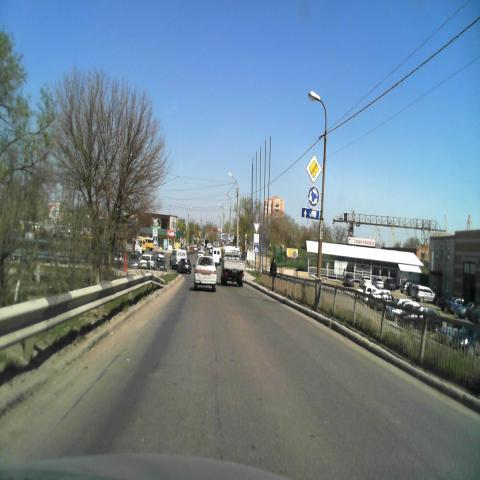2_2: (306, 154, 322, 184)
2_4: (253, 222, 260, 234), (153, 219, 158, 227)
4_3: (308, 186, 319, 207)
5_19_1: (253, 244, 259, 252), (153, 238, 158, 246)
6_15_1: (301, 207, 319, 220)
8_13_1: (253, 234, 259, 243), (153, 228, 158, 236)
